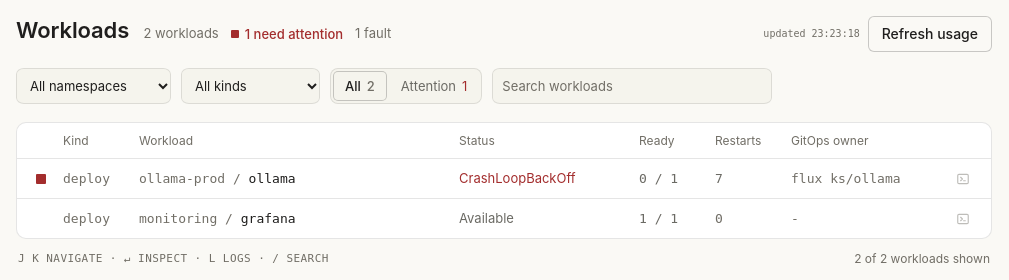
WorkloadsView › status trail reads shown/total, not shown/shown
This screenshot has width=1009, height=280.
What coordinates should you click on to do the following:
click the button "Attention 1"
I would click on:
 (434, 86)
Its box is [389,71,479,101].
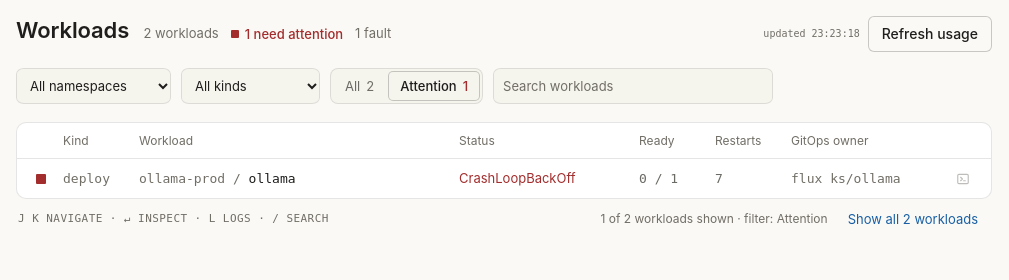
expect the text "1 of 2 workloads shown · filter: Attention" is shown: met, box [600,211,828,227]
